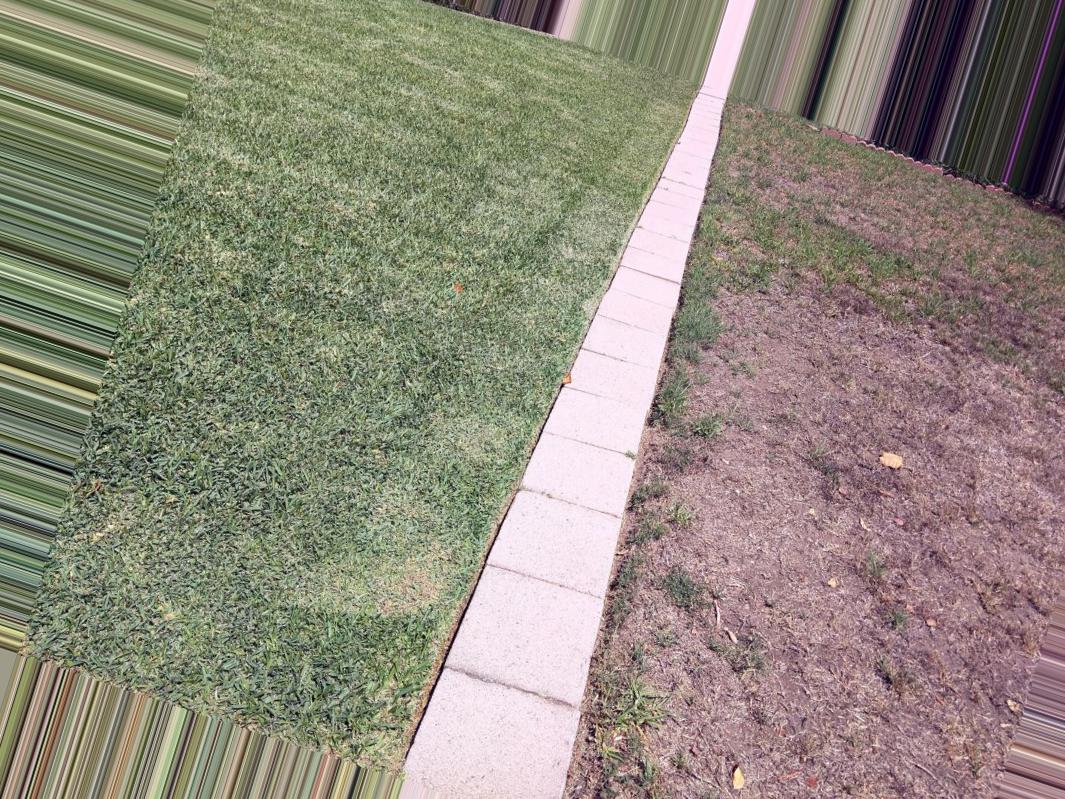patch: (701, 414, 889, 790), (906, 217, 1003, 636), (750, 147, 878, 371), (920, 657, 975, 742)
